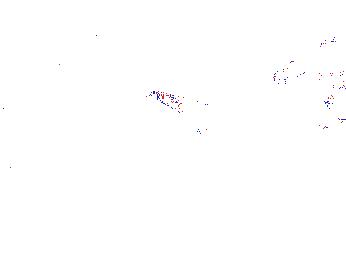X-ray fish: (154, 1, 216, 27), (266, 59, 311, 93), (194, 118, 225, 138), (322, 70, 335, 113)
glassfish: (147, 86, 259, 138), (317, 64, 346, 93), (314, 115, 346, 139)
red belly glassfish: (317, 34, 338, 49)
redtail glassfish: (13, 47, 77, 75)
